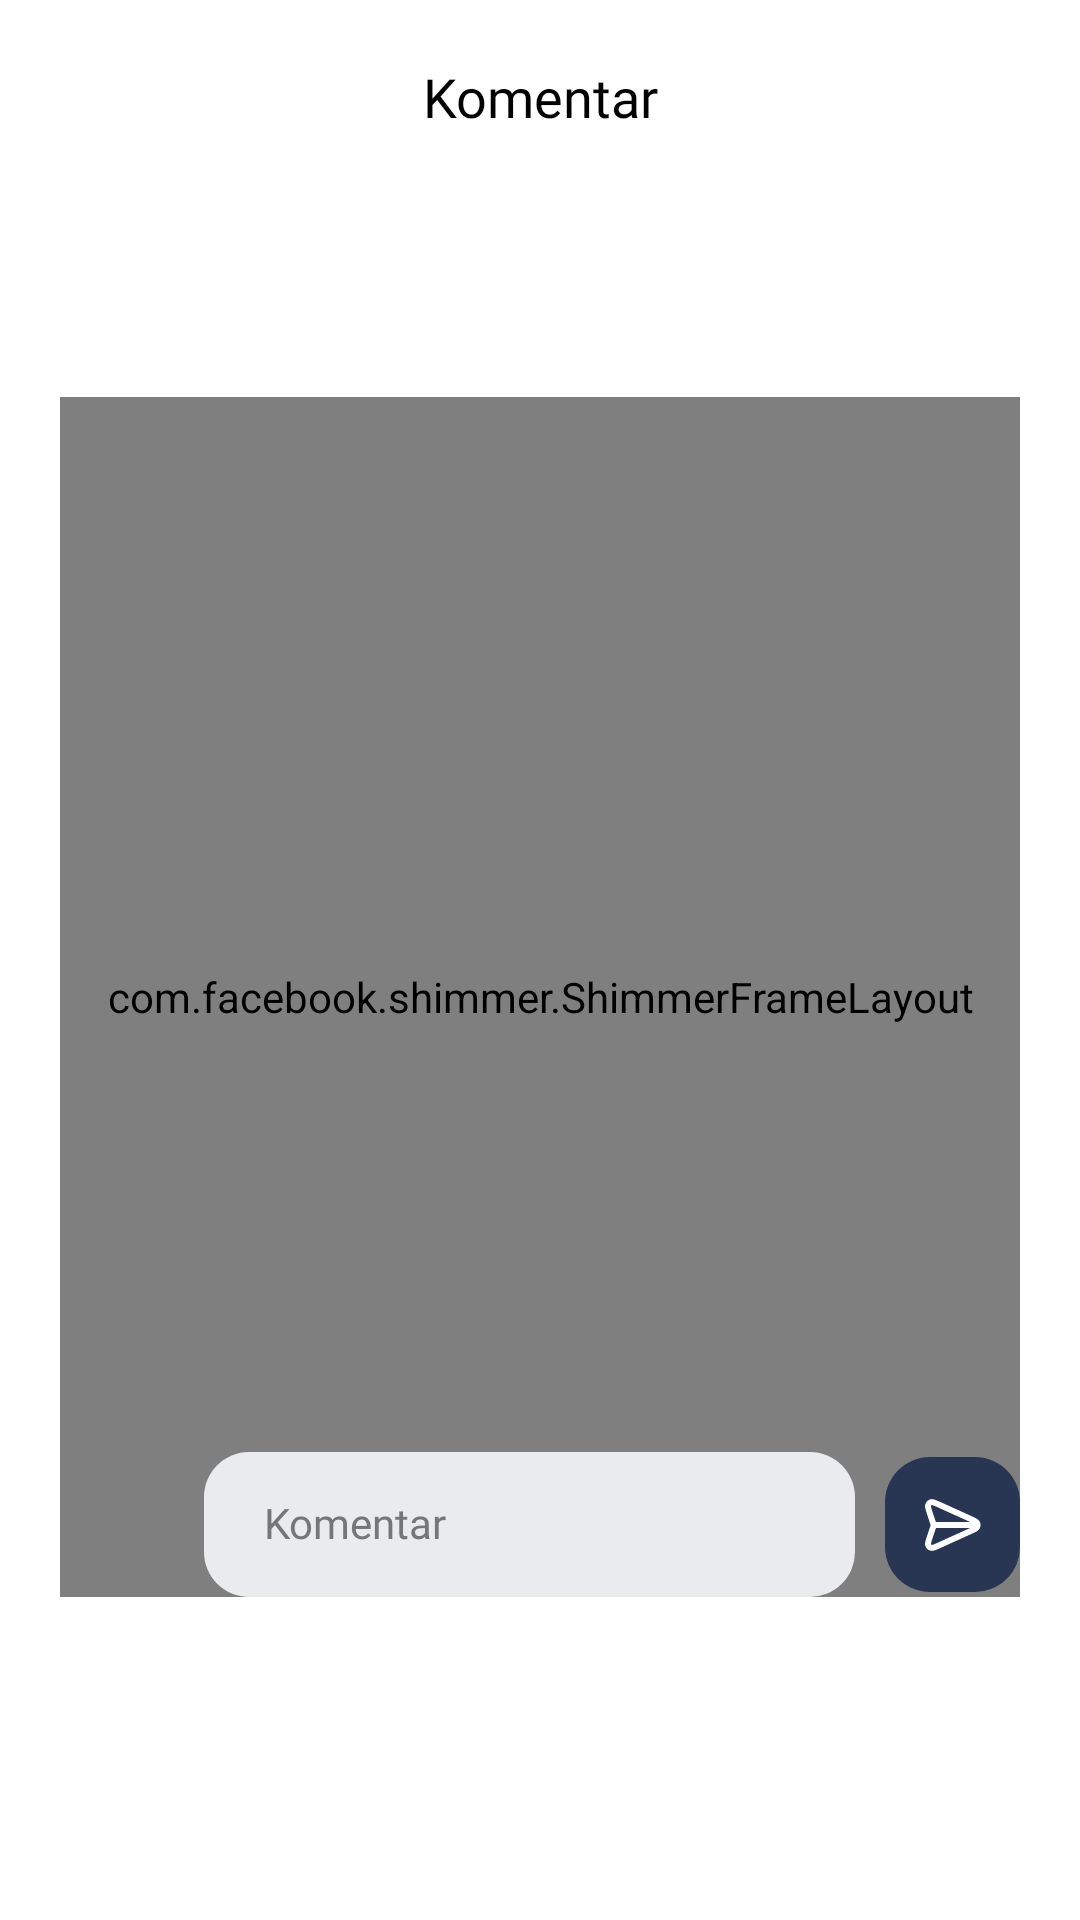

Screen size 1080px×1920px. Icon name, then its box in pixels as (left=x1, top=y1, right=x2, bottom=y2):
send: (left=885, top=1457, right=1020, bottom=1592)
